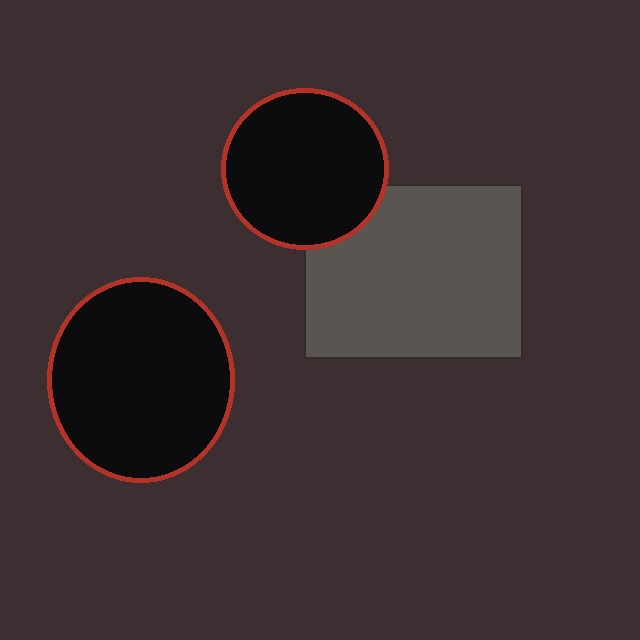concrete_damage: (304, 184, 522, 358)
open_manhole: (47, 277, 234, 482), (221, 88, 388, 249)
